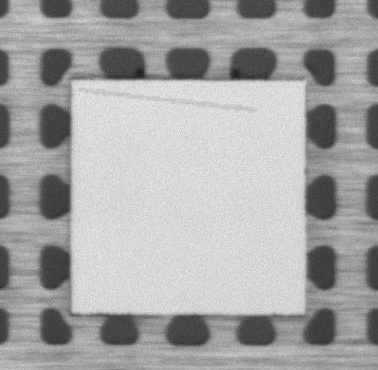DIE_CRACK: (82, 88, 262, 108)
